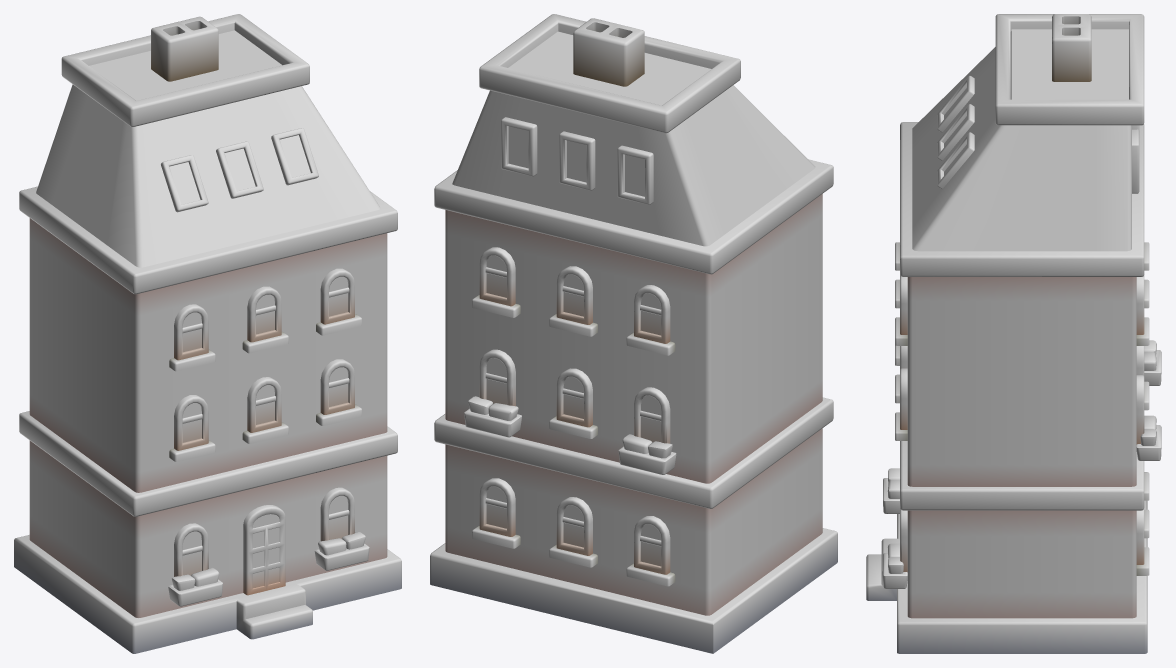
The model's file is NF_Bld_Apartment 09.fbx.
3 renders of one model, left to right at view 1: azimuth 30°, elevation 25°; view 2: azimuth 150°, elevation 25°; view 3: azimuth 270°, elevation 25°, orthographic. The views are drawn at different scales.
Parts seen in each view (by area): view 1: Apart_09; view 2: Apart_09; view 3: Apart_09.
Part boxes in pixels (x1,y1,x2,y2): Apart_09: (14,14,401,653); Apart_09: (430,14,837,653); Apart_09: (866,14,1161,653).
Bounding box in the file's own units: 8.56 × 16.16 × 7.73.
